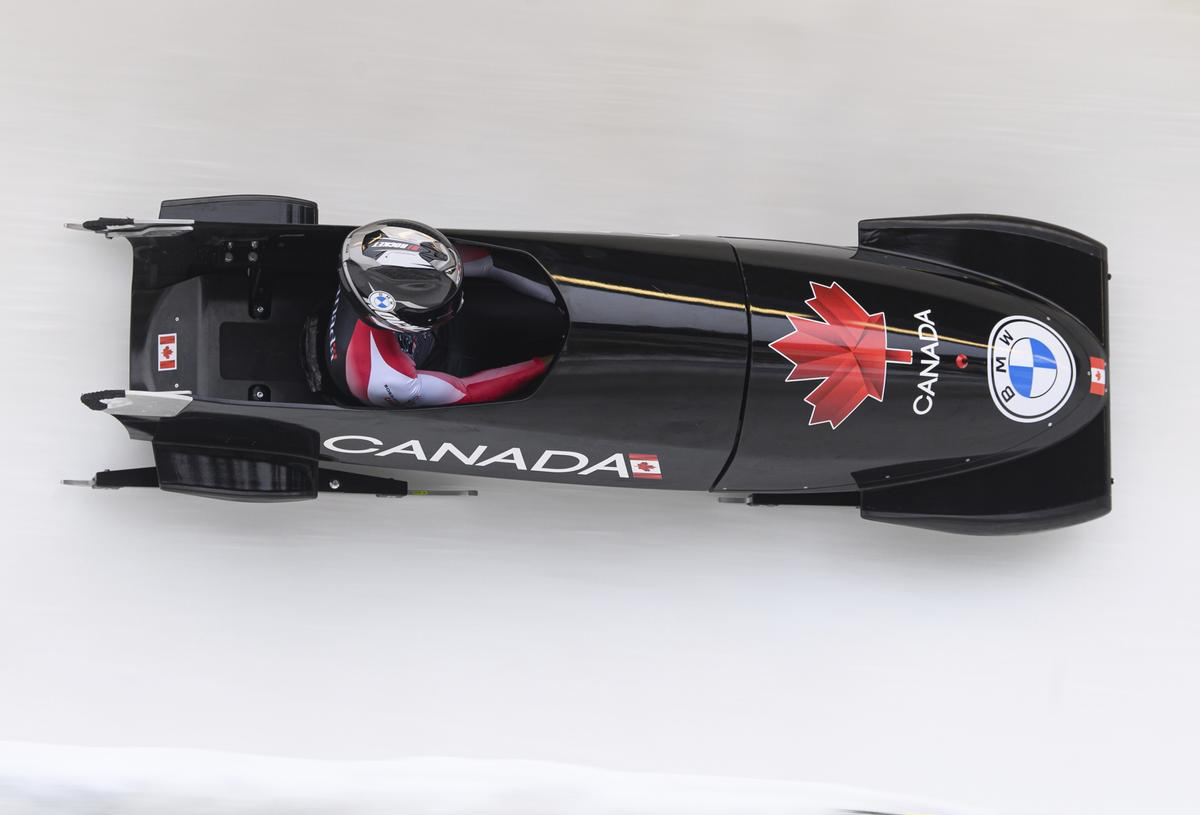Bobsleigh: (62, 196, 1107, 536)
